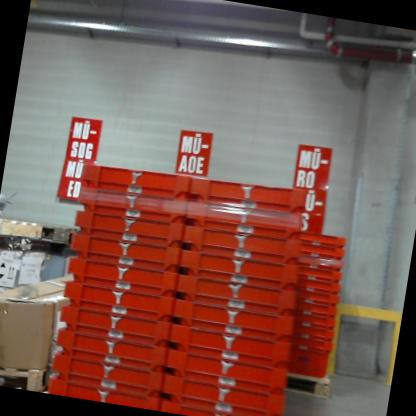pallet: (0, 211, 74, 251), (281, 366, 345, 408), (0, 359, 54, 393)
small_load_carrier: (166, 323, 298, 370), (74, 151, 195, 200), (163, 350, 293, 394), (188, 167, 307, 215), (174, 272, 300, 317), (178, 246, 304, 291), (51, 324, 170, 371), (185, 194, 306, 240), (159, 374, 291, 416), (170, 298, 295, 342), (181, 222, 308, 265), (48, 348, 166, 394), (70, 178, 189, 223), (71, 201, 189, 246), (61, 277, 175, 322), (67, 228, 182, 271), (56, 300, 173, 342), (65, 254, 181, 295), (45, 376, 161, 410), (282, 333, 339, 379), (159, 398, 277, 416), (300, 226, 355, 247), (297, 238, 349, 259), (288, 320, 339, 340), (293, 309, 341, 330), (294, 286, 341, 306), (298, 263, 344, 282), (300, 252, 346, 270), (297, 274, 342, 292), (296, 298, 339, 316)
